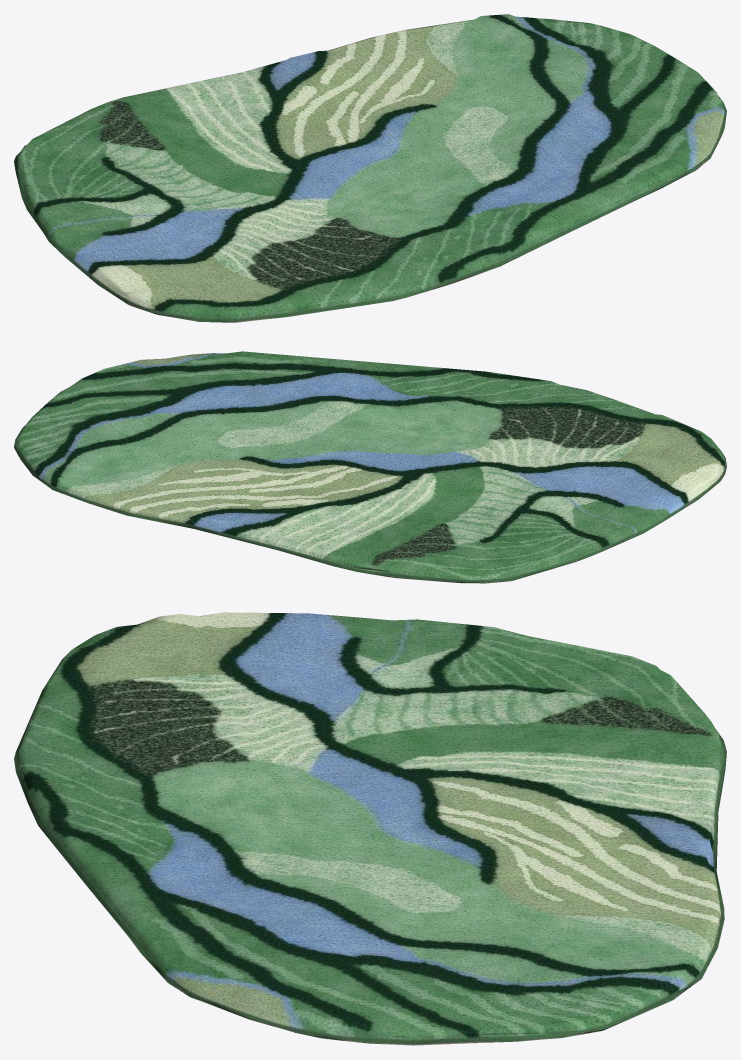
File: 08 - GREJSIMOJS Rug, high pile - green 153x215 cm.glb
3 renders of one model, top to bottom at view 1: azimuth 30°, elevation 25°; view 2: azimuth 150°, elevation 25°; view 3: azimuth 270°, elevation 25°, orthographic. The views are drawn at different scales.
Visible parts, largest first — view 1: 00602001-GREJSIMOJS001; view 2: 00602001-GREJSIMOJS001; view 3: 00602001-GREJSIMOJS001.
Part boxes in pixels (x1=…): 00602001-GREJSIMOJS001: x1=14, y1=14, x2=726, y2=322; 00602001-GREJSIMOJS001: x1=14, y1=351, x2=726, y2=583; 00602001-GREJSIMOJS001: x1=14, y1=612, x2=726, y2=1045.
Bounding box in the file's own units: 2.14 × 0.0349 × 1.52.
Materials: 1 (1 with a texture image).
